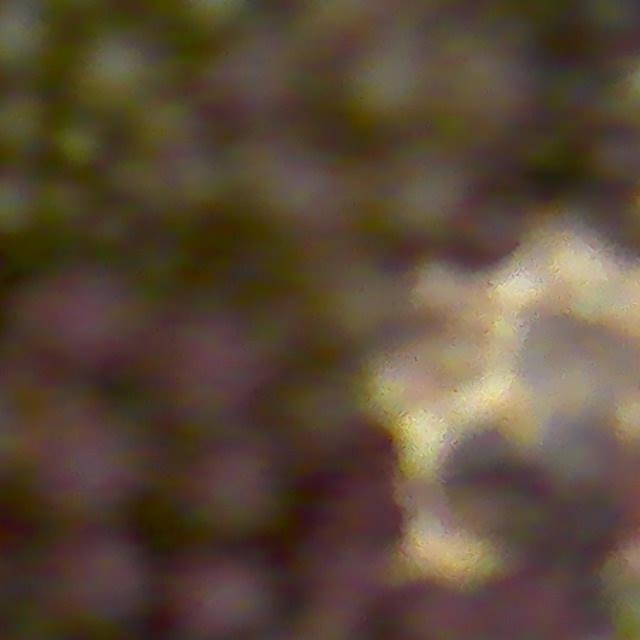SeaGrape: (158, 421, 288, 554), (11, 405, 138, 528), (14, 265, 141, 382), (148, 315, 268, 422), (48, 542, 155, 640), (451, 45, 541, 158), (311, 472, 412, 570), (258, 158, 355, 258), (165, 552, 272, 640), (211, 42, 302, 145), (481, 562, 581, 640), (73, 26, 161, 111), (298, 558, 385, 640), (388, 581, 475, 640), (137, 95, 202, 156), (585, 129, 640, 192), (33, 176, 93, 231), (0, 90, 48, 156), (54, 119, 109, 172)
